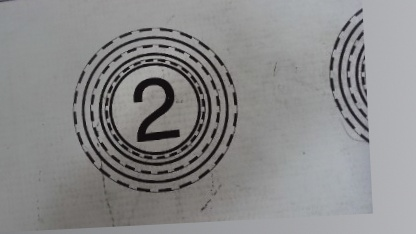2r: (66, 23, 244, 196)
